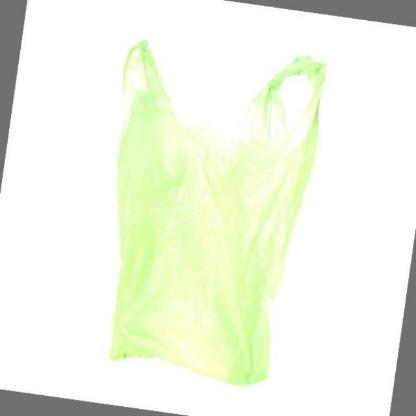Plastic Bag: (105, 37, 327, 386)
